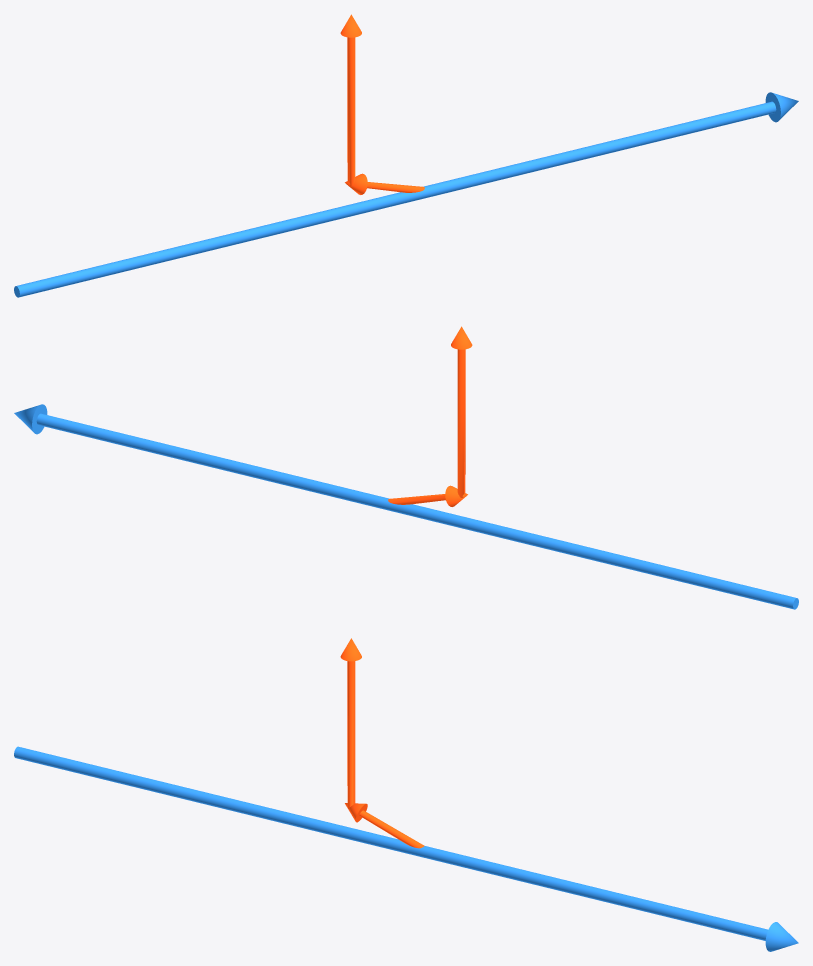
Rendered from surge_vessel_flow.glb.
The picture shows the model from 3 angles, top to bottom: view 1: azimuth 30°, elevation 25°; view 2: azimuth 150°, elevation 25°; view 3: azimuth 330°, elevation 25°; orthographic projection.
Visible parts, largest first — view 1: pipeline, surge_in_out; view 2: pipeline, surge_in_out; view 3: pipeline, surge_in_out.
Boxes of the visible parts, bbox=[...] form: pipeline: bbox=[14, 92, 798, 297]; surge_in_out: bbox=[340, 14, 424, 194]; pipeline: bbox=[14, 404, 798, 609]; surge_in_out: bbox=[388, 326, 472, 506]; pipeline: bbox=[14, 746, 798, 951]; surge_in_out: bbox=[340, 638, 424, 848].
Bounding box in the file's own units: 3.04 × 0.78 × 0.104.
